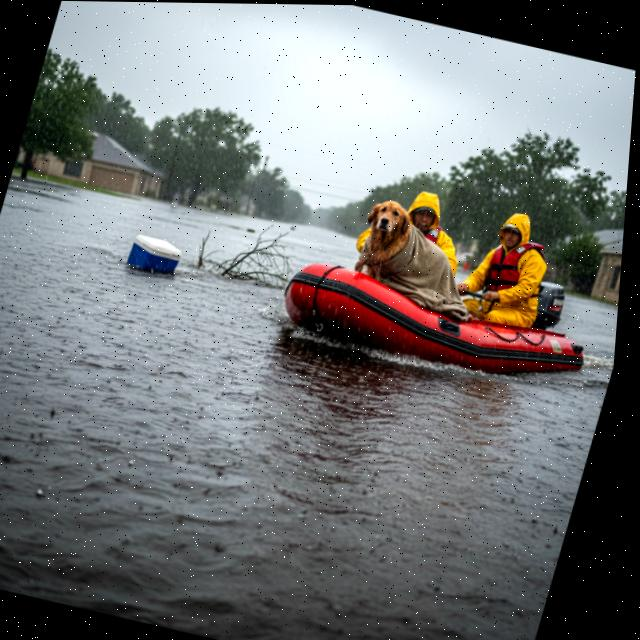dog: (337, 191, 497, 328)
rescuer: (445, 202, 570, 346), (366, 178, 489, 294)
